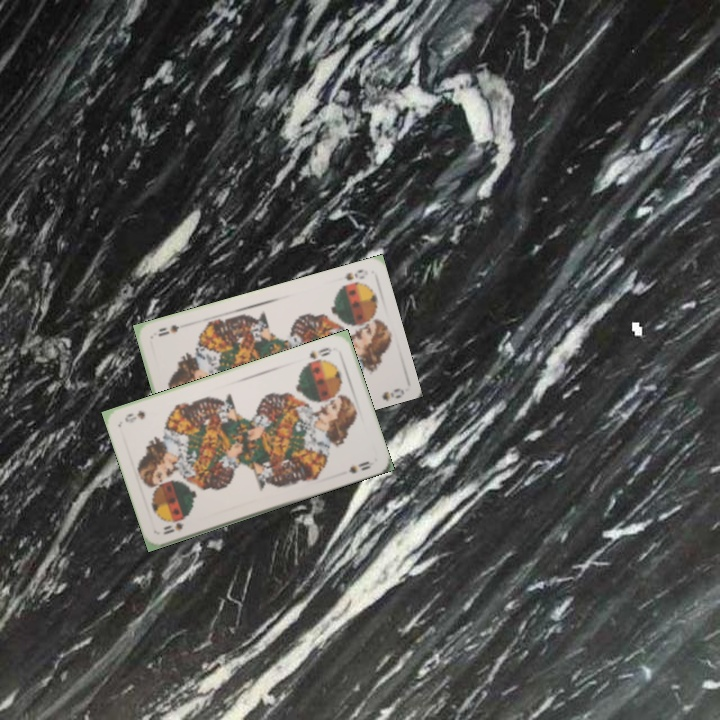SO: (302, 343, 334, 367), (159, 514, 189, 537), (340, 265, 367, 283)
